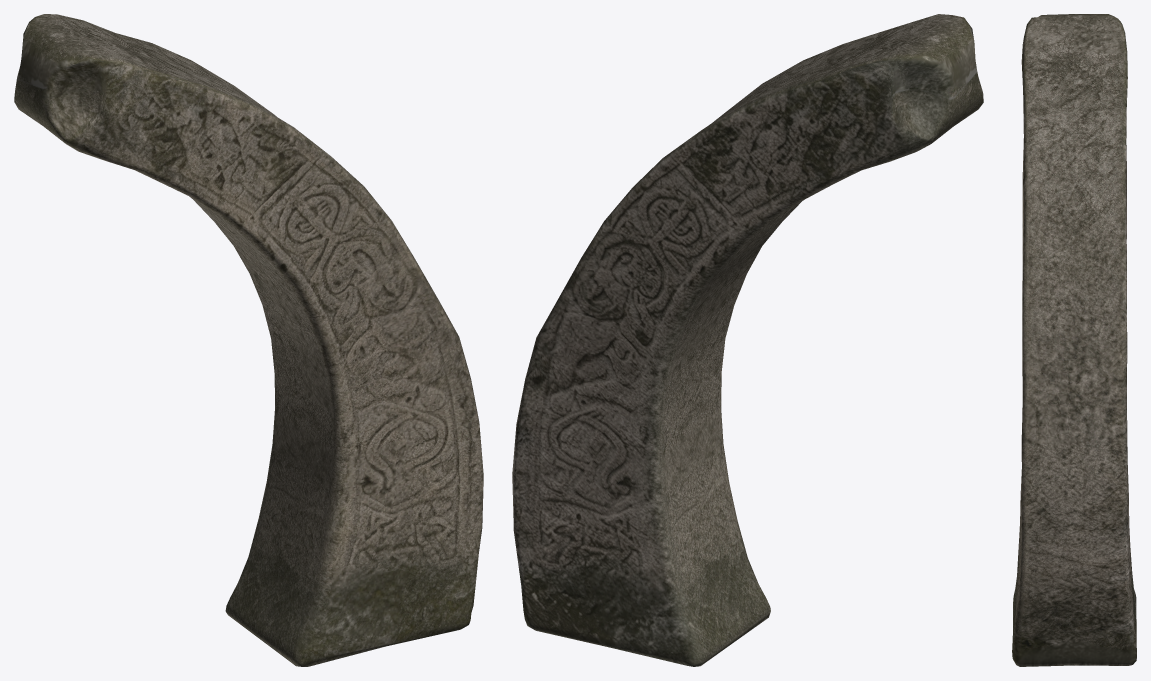
Rendered from pillar_carved_crescent.glb.
3 views of the same model, side by side, from view 1: azimuth 30°, elevation 25°; view 2: azimuth 150°, elevation 25°; view 3: azimuth 270°, elevation 25° (orthographic). The views are drawn at different scales.
Size of the model in its own units: 0.6758 by 1 by 0.2222.
Materials: 1 (1 with a texture image).
